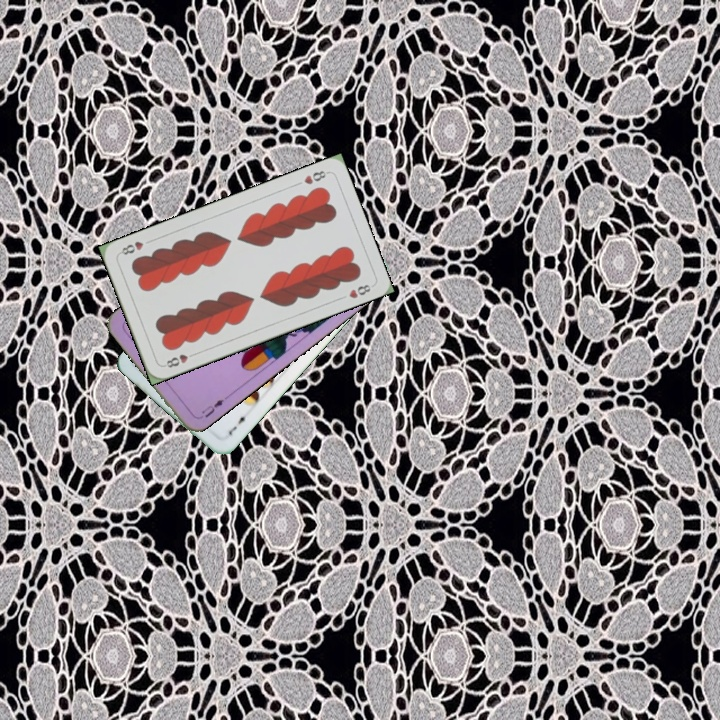E7: (224, 410, 251, 438)
EU: (194, 395, 226, 422)
H8: (160, 349, 199, 370), (300, 166, 331, 187)
